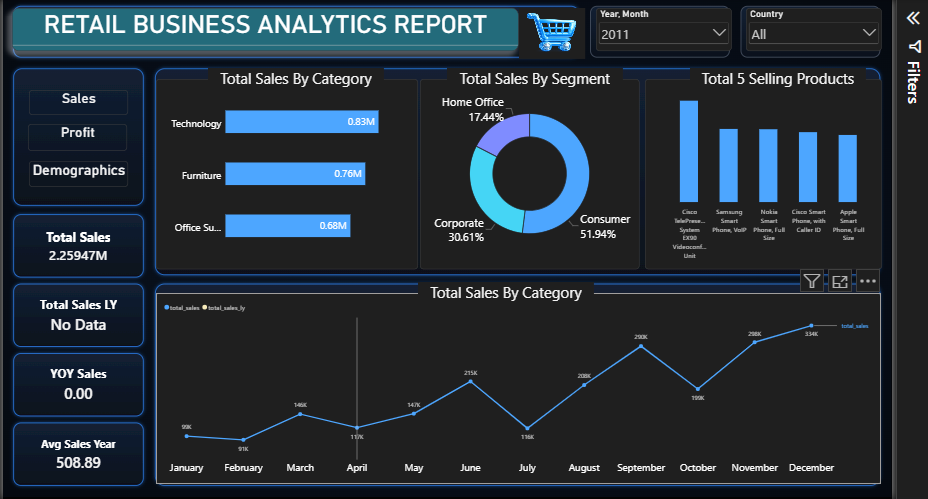

This screenshot's page, from the dashboard's own definition file:
{"tool":"powerbi","page":{"name":"Page 1","canvas":[1920,1080],"ordinal":0},"visuals":[{"type":"textbox","title":"RETAIL BUSINESS ANALYTICS REPORT","box":[19.5,19.5,1094.1,93],"z":0},{"type":"slicer","fields":{"Values":["Calendar.Year","Calendar.Month"]},"box":[1280,20,292.5,92.5],"z":1000},{"type":"slicer","fields":{"Values":["location_table.Country"]},"box":[1605,20,292.5,92.5],"z":2000},{"type":"cardVisual","fields":{"Data":["sales_table.total_sales"]},"box":[18.8,461.2,286.9,144.8],"z":3000},{"type":"cardVisual","fields":{"Data":["sales_table.total_sales_ly"]},"box":[19.4,607,287.3,151.2],"z":4000},{"type":"cardVisual","fields":{"Data":["sales_table.yoy_sales"]},"box":[19.4,760.3,287.3,142.6],"z":5000},{"type":"cardVisual","fields":{"Data":["sales_table.avg_sales_year"]},"box":[19.4,905,287.3,157.7],"z":6000},{"type":"clusteredBarChart","fields":{"Category":["product_table.Category"],"Y":["sales_table.total_sales"]},"box":[330.8,173,566.5,410.8],"z":7000},{"type":"donutChart","fields":{"Series":["customer_table.Segment"],"Y":["sales_table.total_sales"]},"box":[901.6,173,473.5,410.8],"z":8000},{"type":"lineChart","fields":{"Category":["Calendar.Date.Variation.Date Hierarchy.Month"],"Y":["sales_table.total_sales","sales_table.total_sales_ly"]},"box":[330.8,635.7,1565.4,413],"z":9000},{"type":"textbox","box":[442.5,150,380,47.5],"z":10000},{"type":"textbox","box":[960,150,380,47.5],"z":11000},{"type":"textbox","box":[897.3,611.9,380,47.5],"z":12000},{"type":"image","box":[1113.5,19.5,142.7,110.3],"z":13000},{"type":"clusteredColumnChart","fields":{"Category":["product_table.Product Name"],"Y":["sales_table.total_sales"]},"box":[1385.9,173,512.4,410.8],"z":14000},{"type":"textbox","box":[1483.2,149.2,380,47.5],"z":15000},{"type":"actionButton","title":"Sales","box":[56.2,196.6,213.8,54],"z":16000},{"type":"actionButton","title":"Profit","box":[54,270,213.8,58.3],"z":17000},{"type":"actionButton","title":"Demographics","box":[56.2,349.9,213.8,56.2],"z":18000}]}

Visuals, with their boxes on the page's 1920x1080 design canvas (x1, y1, x2, y2). These are canvas units, not pixel positions in the 928x499 screenshot, which may show the page scaled, cropped or inside an application window:
"RETAIL BUSINESS ANALYTICS REPORT" textbox: l=20, t=20, r=1114, b=112
slicer - Calendar.Year x Calendar.Month: l=1280, t=20, r=1572, b=112
slicer - location_table.Country: l=1605, t=20, r=1898, b=112
cardVisual - sales_table.total_sales: l=19, t=461, r=306, b=606
cardVisual - sales_table.total_sales_ly: l=19, t=607, r=307, b=758
cardVisual - sales_table.yoy_sales: l=19, t=760, r=307, b=903
cardVisual - sales_table.avg_sales_year: l=19, t=905, r=307, b=1063
clusteredBarChart - product_table.Category x sales_table.total_sales: l=331, t=173, r=897, b=584
donutChart - customer_table.Segment x sales_table.total_sales: l=902, t=173, r=1375, b=584
lineChart - Calendar.Date.Variation.Date Hierarchy.Month x sales_table.total_sales: l=331, t=636, r=1896, b=1049
textbox: l=442, t=150, r=822, b=198
textbox: l=960, t=150, r=1340, b=198
textbox: l=897, t=612, r=1277, b=659
image: l=1114, t=20, r=1256, b=130
clusteredColumnChart - product_table.Product Name x sales_table.total_sales: l=1386, t=173, r=1898, b=584
textbox: l=1483, t=149, r=1863, b=197
"Sales" actionButton: l=56, t=197, r=270, b=251
"Profit" actionButton: l=54, t=270, r=268, b=328
"Demographics" actionButton: l=56, t=350, r=270, b=406
